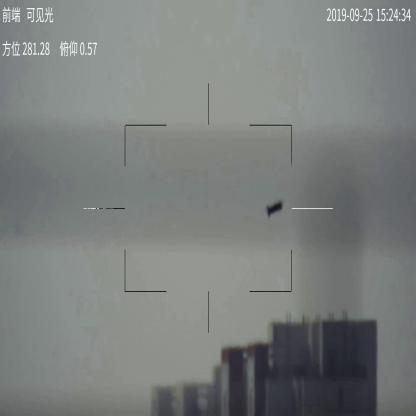uav: (266, 200, 286, 216)
